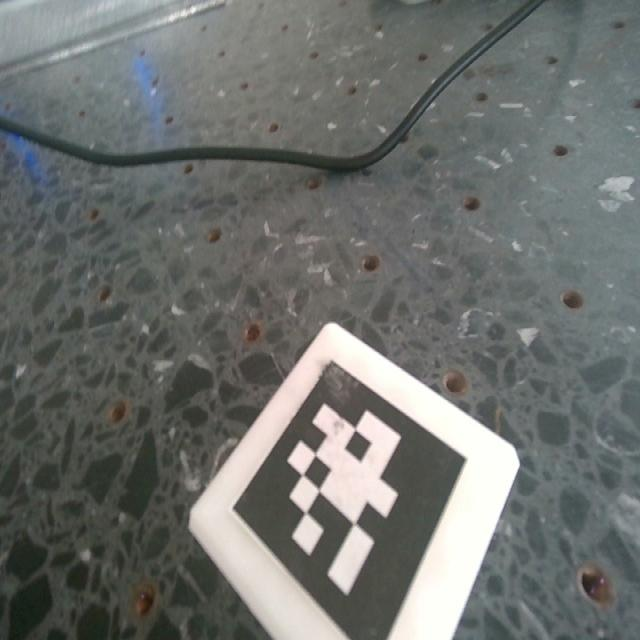Cube: (187, 324, 520, 639)
